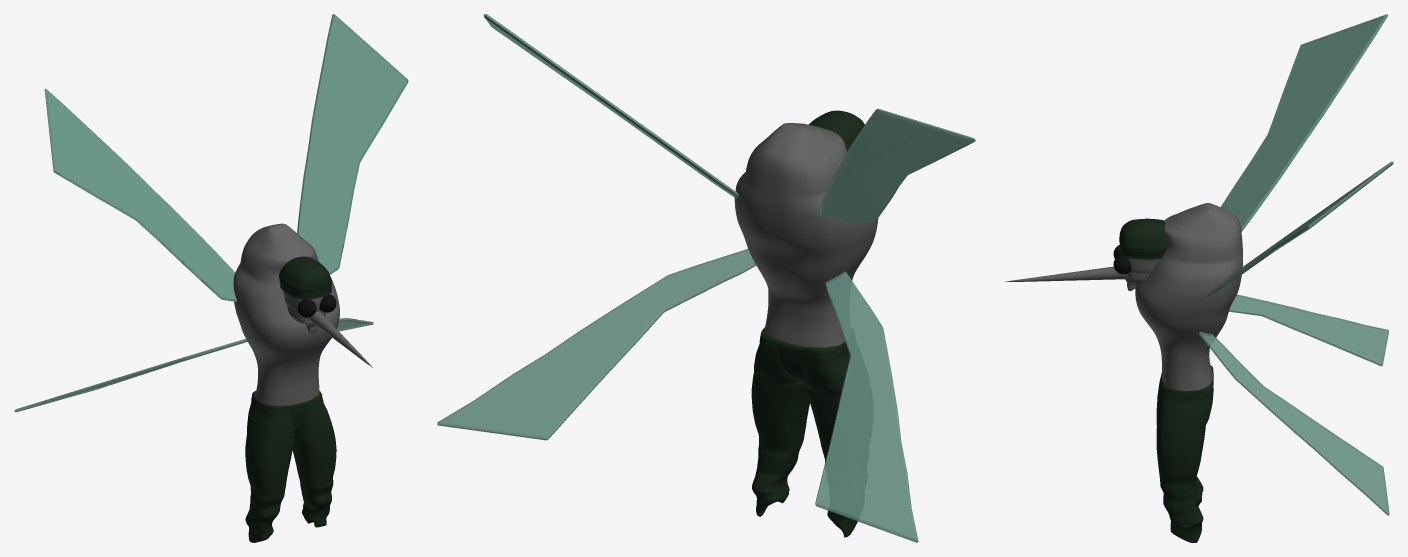
Rendered from Inimigo 8 - Mosquito Soldado.fbx.
3 renders of one model, left to right at view 1: azimuth 30°, elevation 25°; view 2: azimuth 150°, elevation 25°; view 3: azimuth 270°, elevation 25°, orthographic. The views are drawn at different scales.
Visible parts, largest first — view 1: pCube20, pCube8, pCube12, pCube9, pCube13, pCube14, pCube11, pCylinder3, pCube10; view 2: pCube8, pCube11, pCube19, pCube12, pCube13, pCube9, pCube20, pCube14, pCube22; view 3: pCube8, pCube12, pCube13, pCube19, pCube11, pCube14, pCube20, pCylinder3, pCube10.
Part boxes in pixels (bbox=[...]): pCube20: bbox=[297, 14, 408, 274]; pCube8: bbox=[233, 223, 339, 405]; pCube12: bbox=[44, 89, 236, 301]; pCube9: bbox=[245, 391, 294, 542]; pCube13: bbox=[292, 391, 336, 527]; pCube14: bbox=[279, 256, 331, 299]; pCube11: bbox=[14, 338, 247, 412]; pCylinder3: bbox=[310, 311, 372, 367]; pCube10: bbox=[283, 291, 326, 333]; pCube8: bbox=[734, 123, 878, 347]; pCube11: bbox=[815, 271, 918, 542]; pCube19: bbox=[437, 249, 756, 440]; pCube12: bbox=[818, 108, 975, 224]; pCube13: bbox=[751, 327, 809, 516]; pCube9: bbox=[802, 341, 857, 537]; pCube20: bbox=[483, 14, 738, 197]; pCube14: bbox=[809, 110, 864, 151]; pCube22: bbox=[777, 340, 805, 381]; pCube8: bbox=[1135, 203, 1242, 390]; pCube12: bbox=[1221, 14, 1387, 231]; pCube13: bbox=[1156, 382, 1213, 542]; pCube19: bbox=[1198, 332, 1389, 515]; pCube11: bbox=[1229, 294, 1388, 366]; pCube14: bbox=[1118, 218, 1167, 259]; pCube20: bbox=[1206, 161, 1393, 297]; pCylinder3: bbox=[1005, 266, 1125, 281]; pCube10: bbox=[1125, 258, 1158, 290].
Size of the model in its own units: 2.13 by 2.35 by 1.89.
